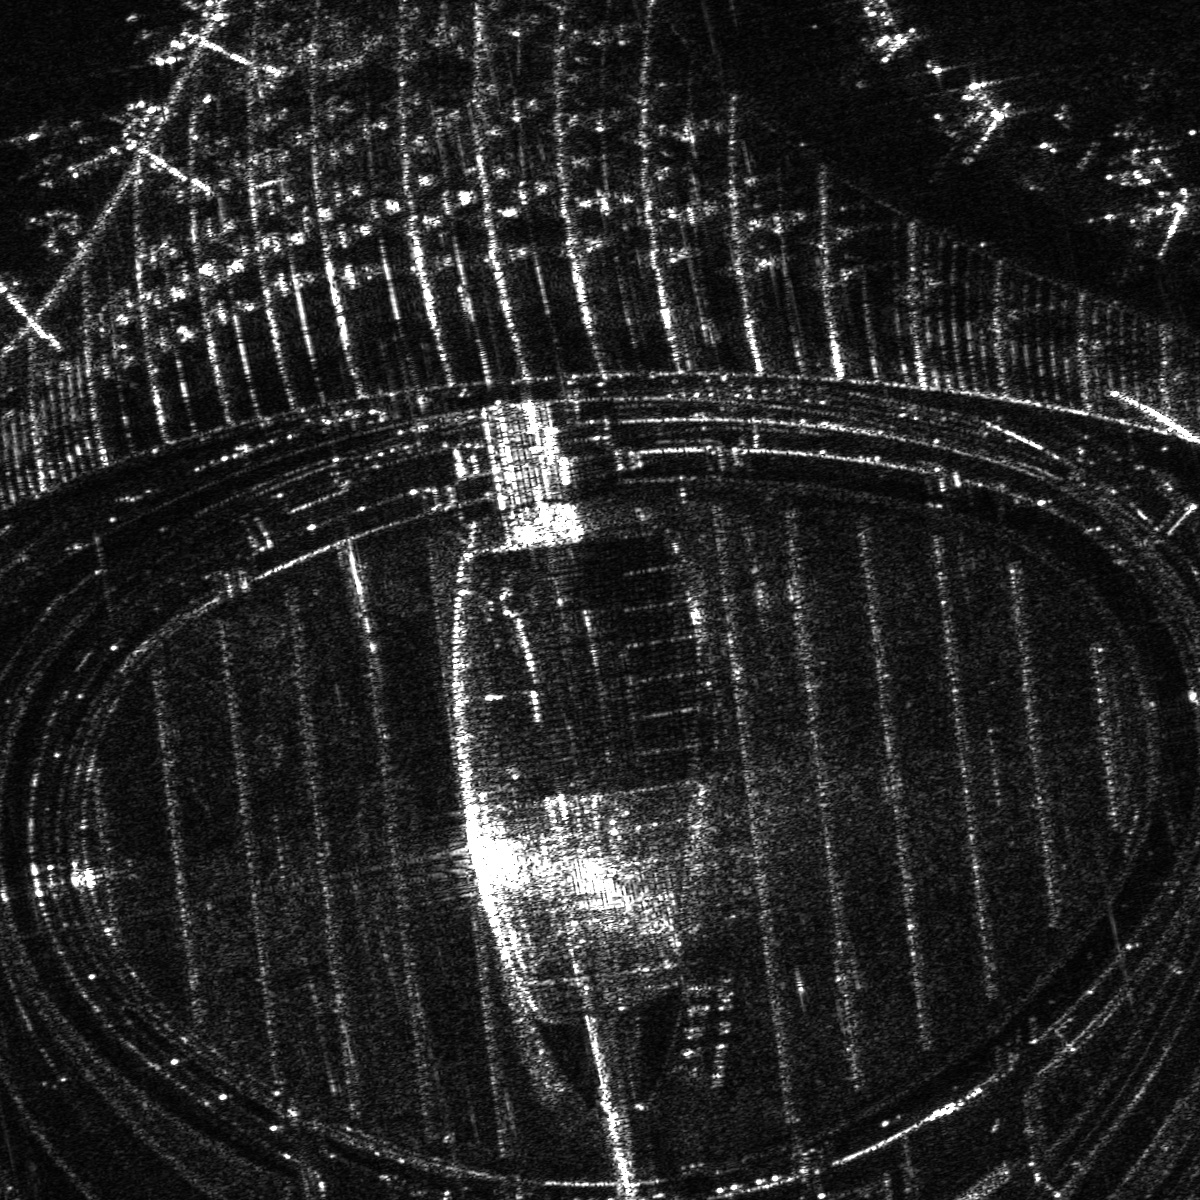A220: (7, 115, 59, 184)
